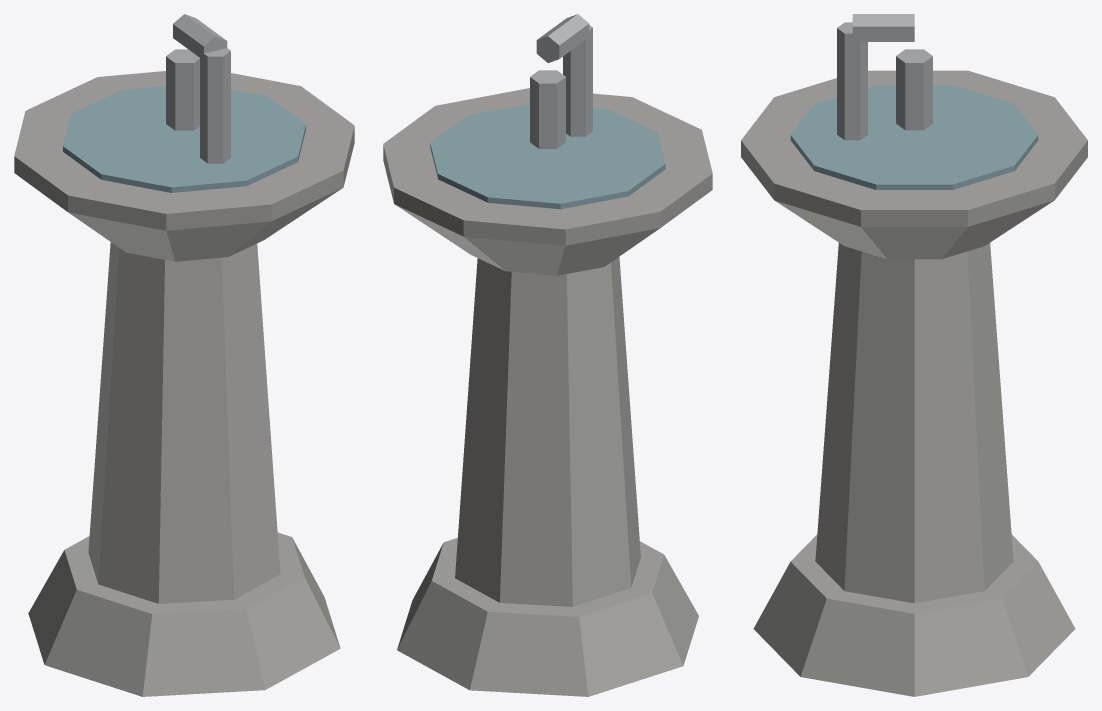
The model's file is fountain_drink.glb.
3 views of the same model, side by side, from view 1: azimuth 30°, elevation 25°; view 2: azimuth 150°, elevation 25°; view 3: azimuth 270°, elevation 25° (orthographic). The views are drawn at different scales.
Bounding box in the file's own units: 0.5326 × 1.1 × 0.56.
